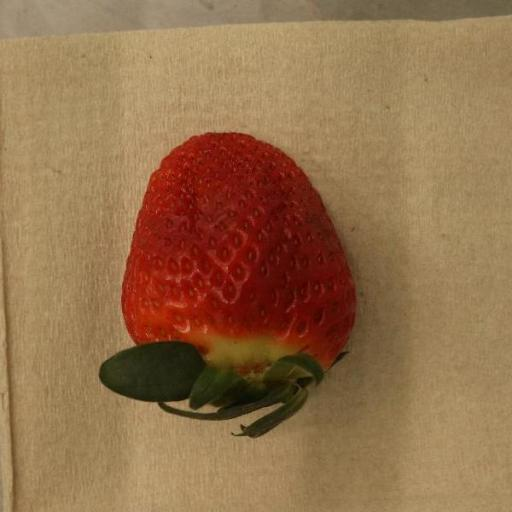Strawberry: (100, 133, 358, 440)
